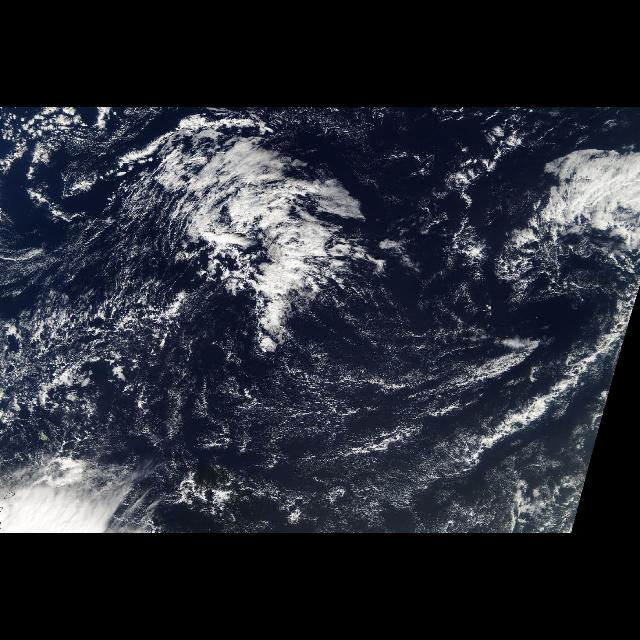Fish: (457, 345, 601, 469)
Gravel: (9, 271, 177, 399)
Sugar: (182, 337, 584, 533)
